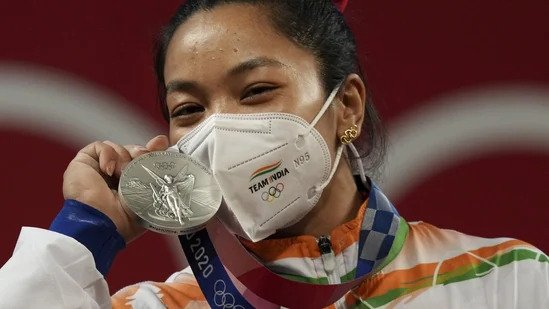with_mask: (166, 47, 320, 219)
